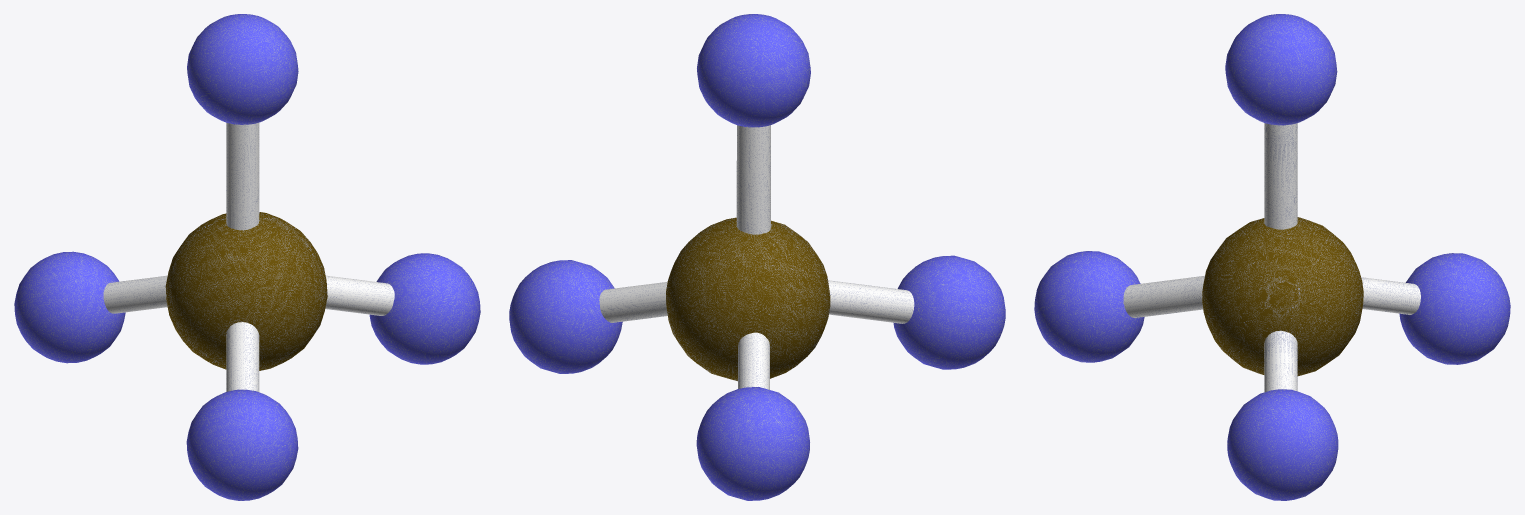
The picture shows the model from 3 angles, left to right: view 1: azimuth 30°, elevation 25°; view 2: azimuth 150°, elevation 25°; view 3: azimuth 270°, elevation 25°; orthographic projection. The views are drawn at different scales.
Parts seen in each view (by area): view 1: sp3_tetrahedron (×6); view 2: sp3_tetrahedron (×6); view 3: sp3_tetrahedron (×6).
Part boxes in pixels (x1,y1,x2,y2): sp3_tetrahedron (×6): (14, 14, 480, 500); sp3_tetrahedron (×6): (509, 14, 1005, 500); sp3_tetrahedron (×6): (1034, 14, 1510, 500).
Bounding box in the file's own units: 469 × 514 × 461.
